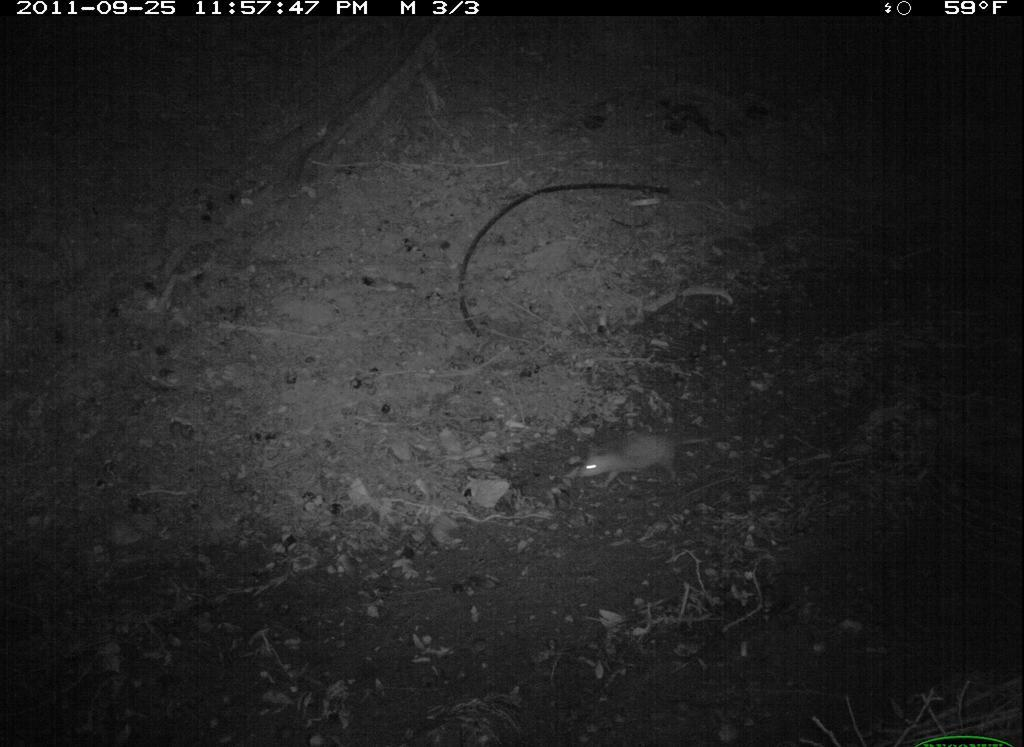opossum: (556, 423, 696, 501)
